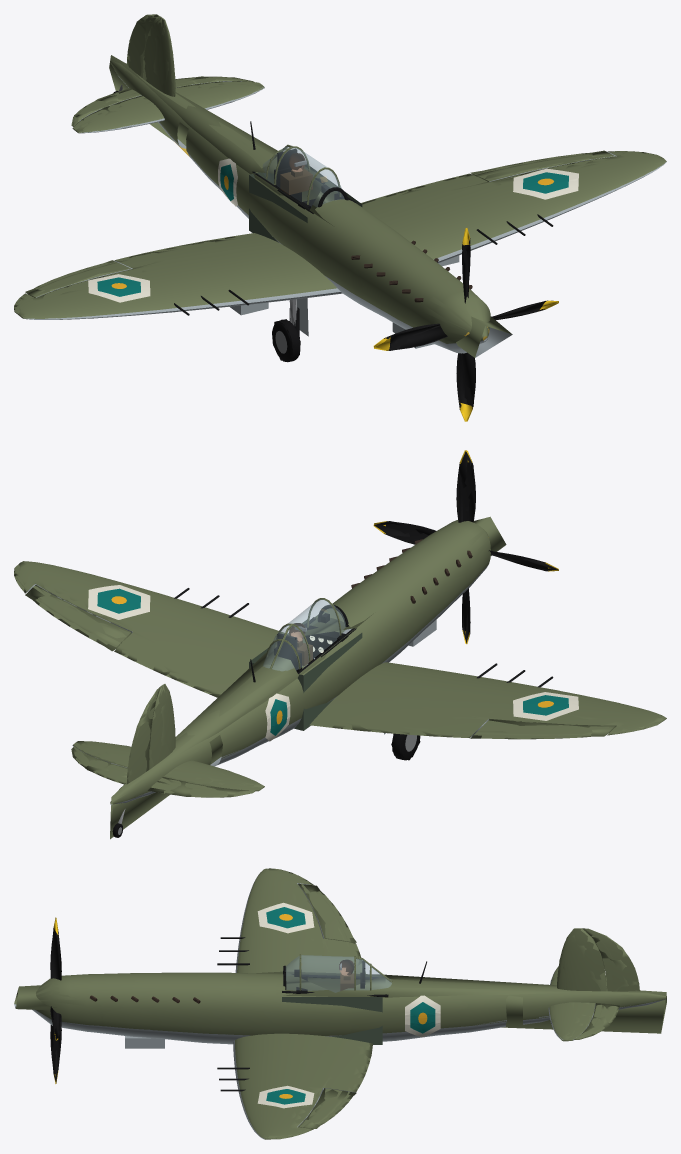
The model's file is Sabrewing.glb.
3 views of the same model, one above another, from view 1: azimuth 30°, elevation 25°; view 2: azimuth 150°, elevation 25°; view 3: azimuth 270°, elevation 25° (orthographic). The views are drawn at different scales.
Visible parts, largest first — view 1: L0_Fuselage, L0_WingR, L1_Fuselage, L0_WingL, L1_WingR, L1_WingL, L2_Fuselage, L2_WingR, L2_WingL, L0_Tail, L0_Glass, L2_Propeller (+12 smaller); view 2: L0_Fuselage, L0_WingR, L1_Fuselage, L0_WingL, L2_Fuselage, L1_WingL, L1_WingR, L2_WingL, L2_WingR, L0_Glass, L0_Tail, L0_Interior (+12 smaller); view 3: L0_Fuselage, L1_Fuselage, L2_Fuselage, L0_WingL, L0_WingR, L1_WingL, L1_WingR, L2_WingL, L0_Glass, L0_Tail, L2_WingR, L0_Interior (+10 smaller).
Part boxes in pixels (left/top/right/bottom): L0_Fuselage: left=110, top=60, right=490, bottom=353; L0_WingR: left=14, top=233, right=342, bottom=319; L1_Fuselage: left=110, top=60, right=489, bottom=353; L0_WingL: left=361, top=151, right=666, bottom=266; L1_WingR: left=14, top=234, right=340, bottom=319; L1_WingL: left=362, top=151, right=665, bottom=265; L2_Fuselage: left=109, top=55, right=512, bottom=357; L2_WingR: left=14, top=238, right=333, bottom=319; L2_WingL: left=371, top=151, right=666, bottom=259; L0_Tail: left=73, top=18, right=264, bottom=133; L0_Glass: left=263, top=147, right=343, bottom=206; L2_Propeller: left=375, top=230, right=557, bottom=419; L0_Fuselage: left=110, top=521, right=490, bottom=804; L0_WingR: left=309, top=662, right=666, bottom=738; L1_Fuselage: left=110, top=520, right=489, bottom=805; L0_WingL: left=14, top=561, right=284, bottom=694; L2_Fuselage: left=110, top=516, right=506, bottom=839; L1_WingL: left=14, top=561, right=266, bottom=693; L1_WingR: left=311, top=662, right=666, bottom=737; L2_WingL: left=14, top=561, right=283, bottom=697; L2_WingR: left=333, top=662, right=666, bottom=737; L0_Glass: left=263, top=600, right=345, bottom=670; L0_Tail: left=72, top=684, right=264, bottom=790; L0_Interior: left=249, top=613, right=362, bottom=730; L0_Fuselage: left=33, top=954, right=666, bottom=1048; L1_Fuselage: left=32, top=957, right=665, bottom=1048; L2_Fuselage: left=14, top=966, right=666, bottom=1033; L0_WingL: left=217, top=1033, right=370, bottom=1139; L0_WingR: left=217, top=868, right=365, bottom=973; L1_WingL: left=218, top=1033, right=369, bottom=1139; L1_WingR: left=217, top=868, right=361, bottom=973; L2_WingL: left=219, top=1033, right=372, bottom=1139; L0_Glass: left=286, top=955, right=391, bottom=991; L0_Tail: left=548, top=928, right=606, bottom=1041; L2_WingR: left=219, top=868, right=362, bottom=973; L0_Interior: left=282, top=961, right=382, bottom=1044.
Bounding box in the file's own units: 11.14 × 3.4 × 11.4.
